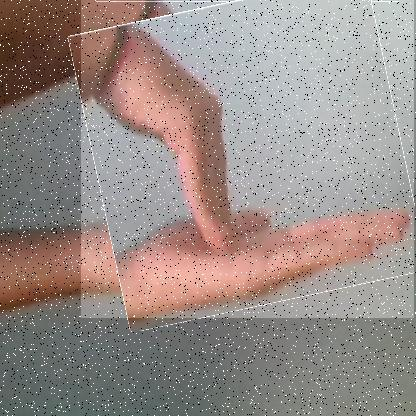Z: (81, 0, 415, 319)
